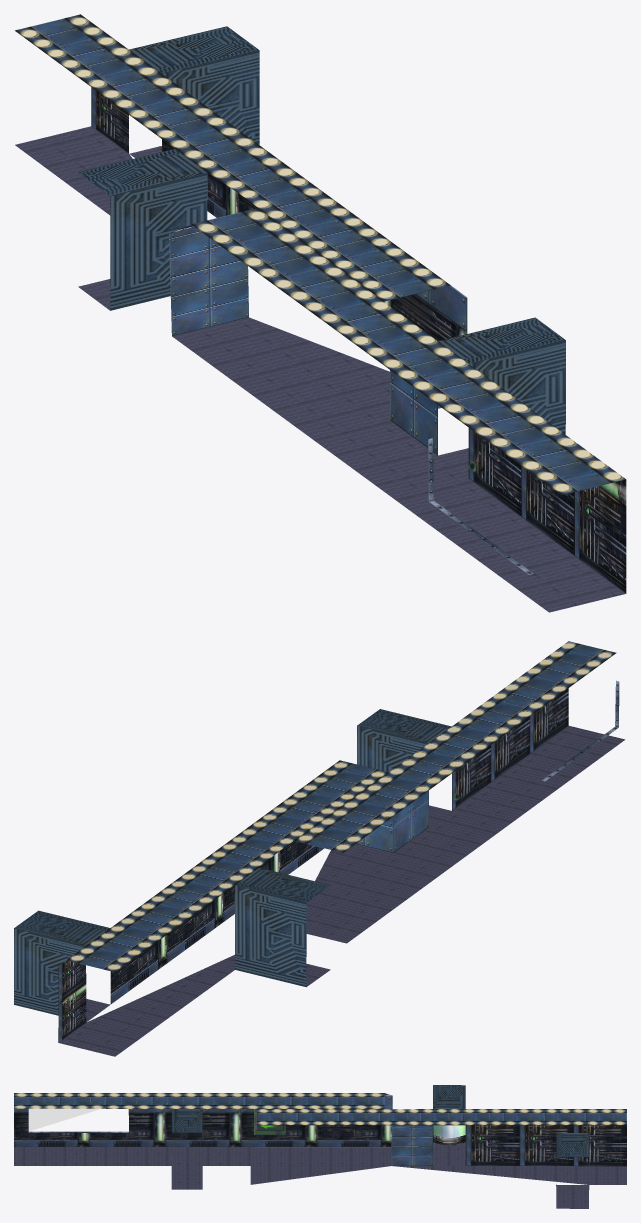
3 views of the same model, one above another, from view 1: azimuth 30°, elevation 25°; view 2: azimuth 150°, elevation 25°; view 3: azimuth 270°, elevation 25° (orthographic). The views are drawn at different scales.
Visible parts, largest first — view 1: 7; view 2: 7; view 3: 7.
Boxes of the visible parts, left/top/right/bottom form: 7: left=15, top=14, right=626, bottom=612; 7: left=14, top=641, right=625, bottom=1056; 7: left=14, top=1085, right=626, bottom=1208.
Size of the model in its own units: 1821 by 729 by 7078.
Materials: 11 (10 with a texture image).
